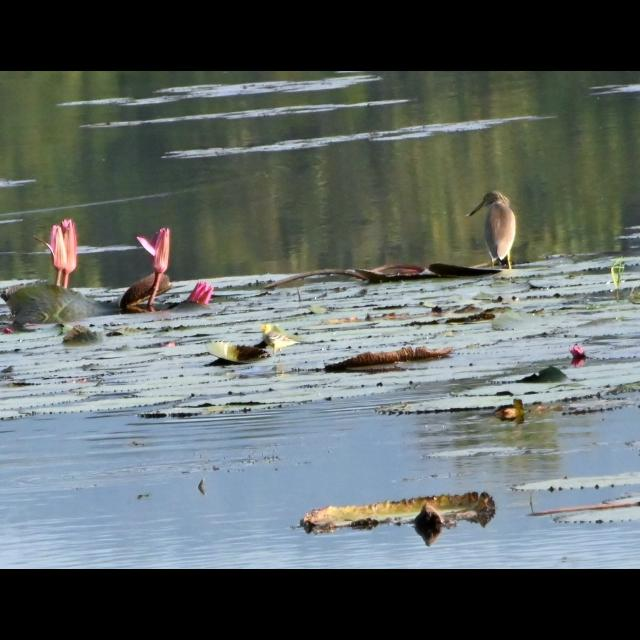heron: (468, 188, 534, 268)
